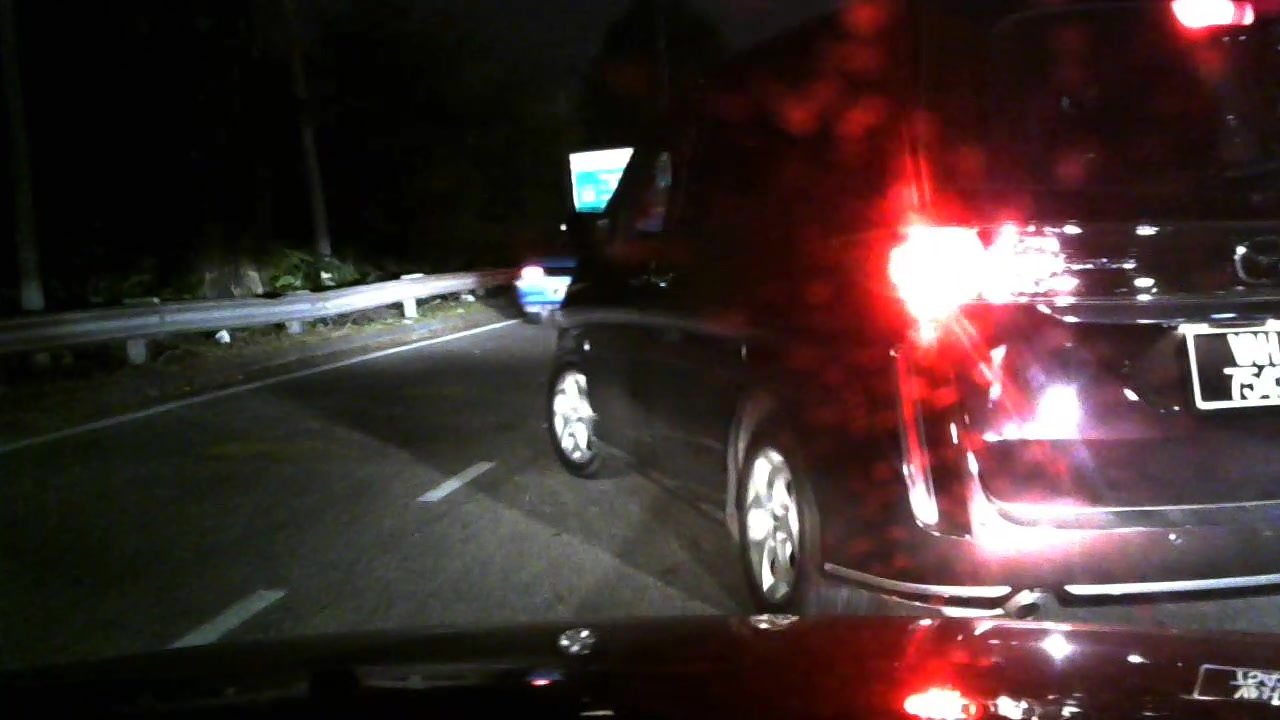Car: (530, 1, 1273, 601), (493, 236, 602, 320)
